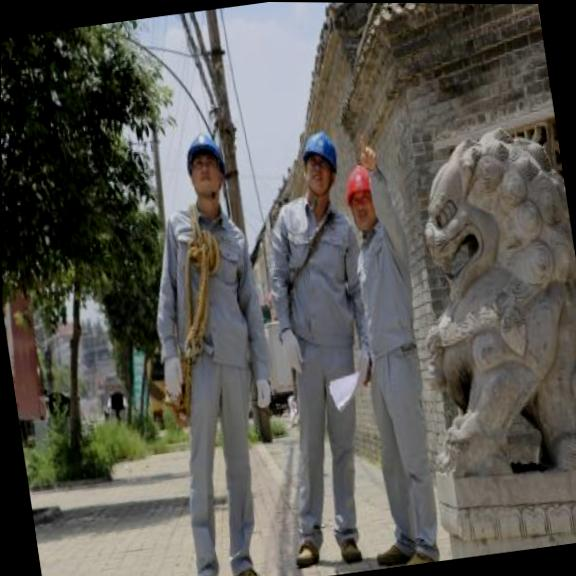no_safety_vest: (140, 196, 272, 379), (255, 190, 374, 357), (347, 222, 425, 353)
